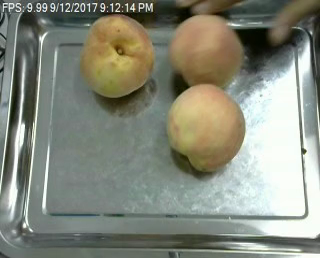Peach: (166, 82, 245, 172), (80, 12, 154, 98), (169, 14, 241, 89)
